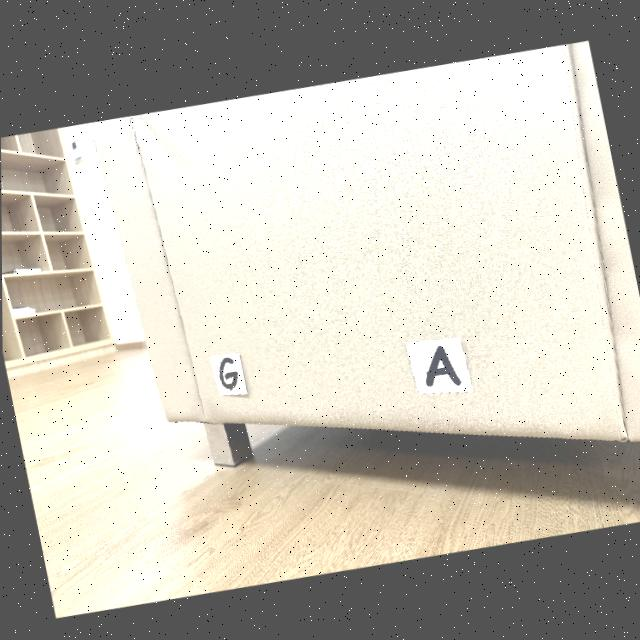A: (425, 343, 460, 384)
G: (219, 356, 239, 389)
